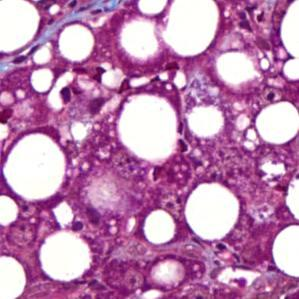steatosis: (114, 97, 184, 160), (7, 135, 72, 198), (185, 184, 248, 241)
